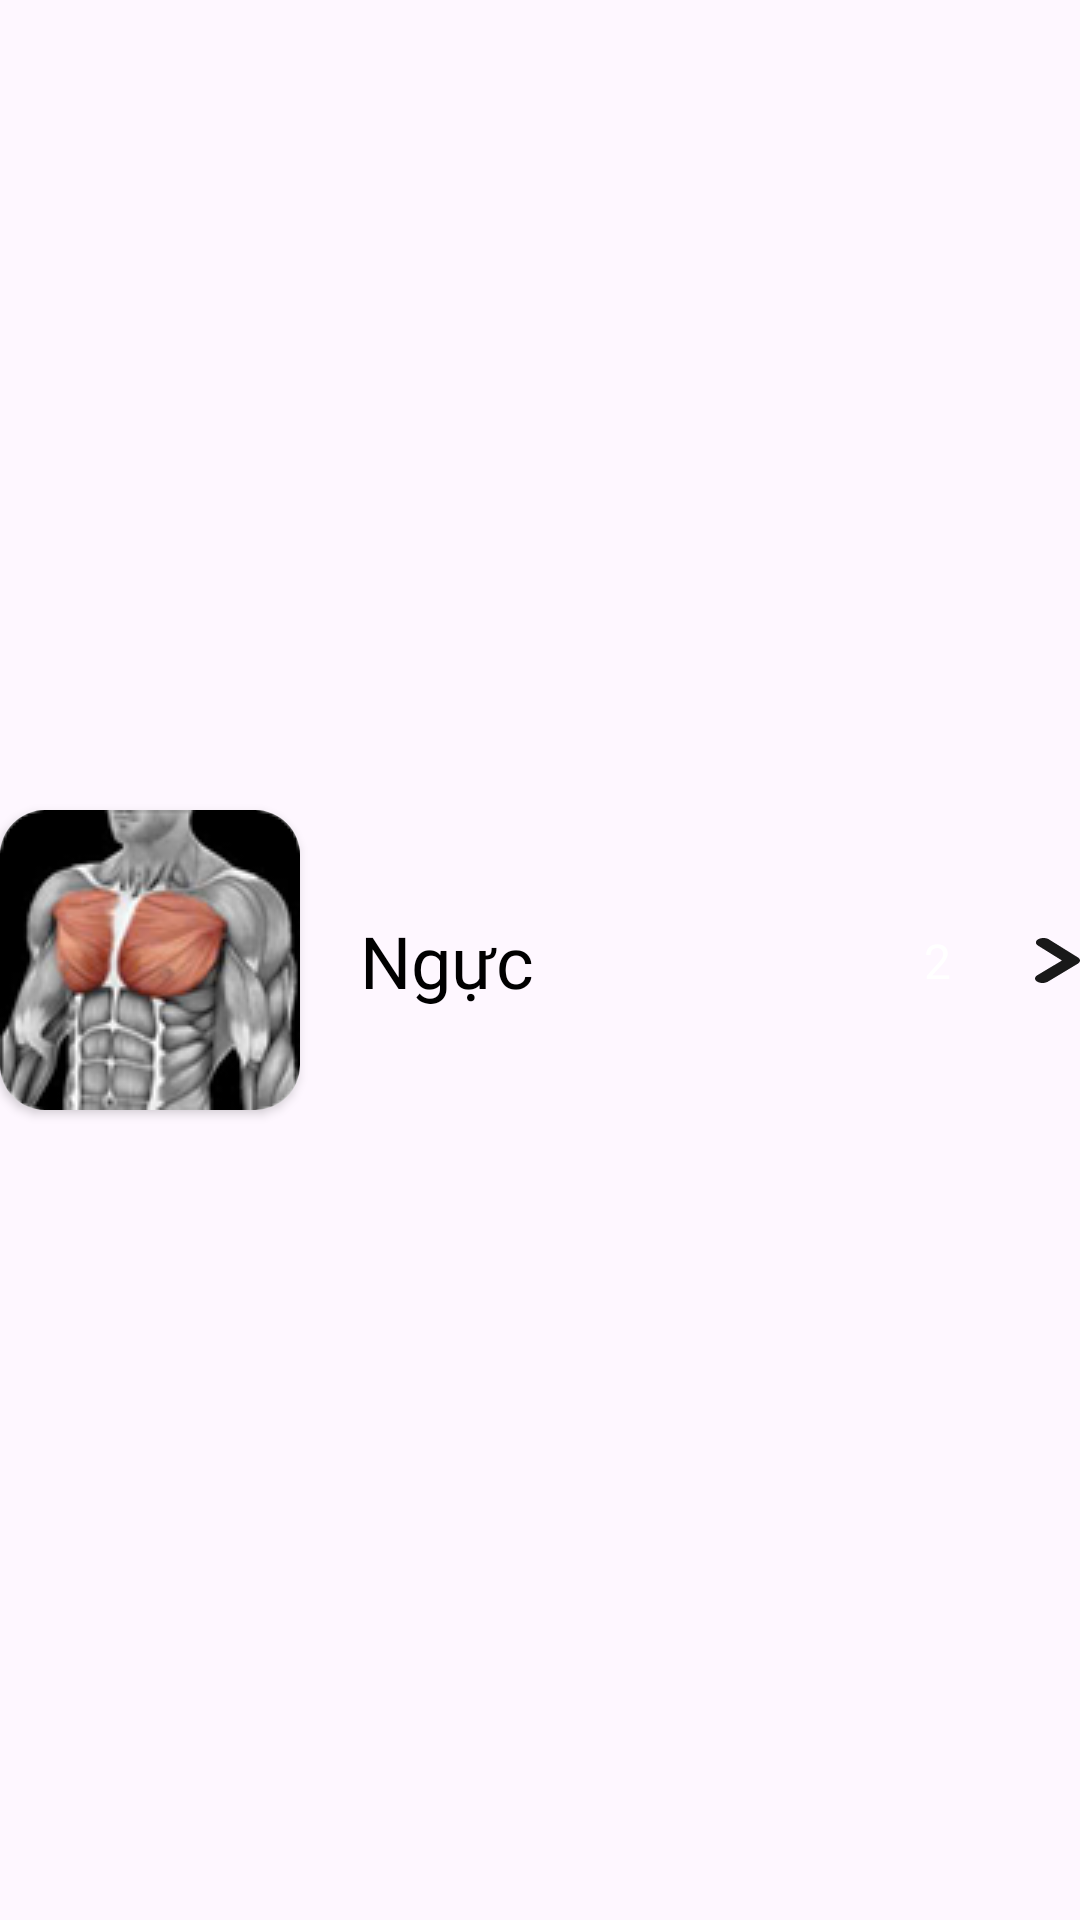

Named icons in this screenshot (1080px x 1920px) and their centers, (x=x, y=y):
next: (x=1057, y=960)
